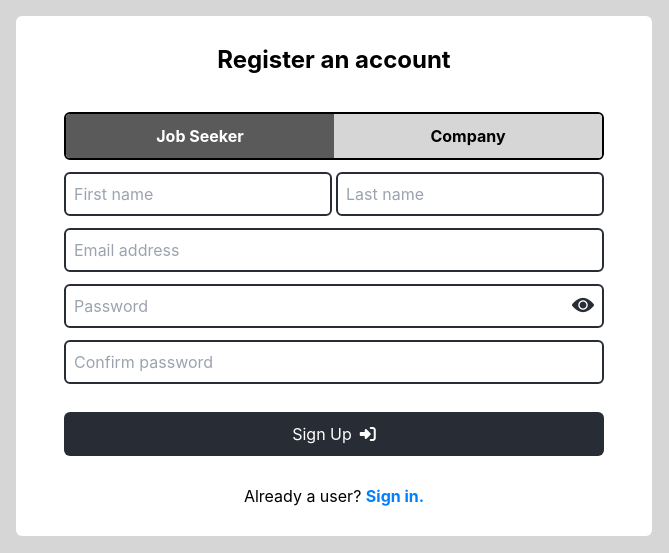
Test case: RegisterPage component › toggleRole function toggles visibility of Company-Fields and Seeker-Fields sections
Expected: the field with id "firstName" is shown, [64,172,332,216]
Expected: the field with id "lastName" is shown, [336,172,604,216]
Note: Toggle role to Company
Step 1. Click the button "Company" → click(468, 136), box [334,114,602,158]
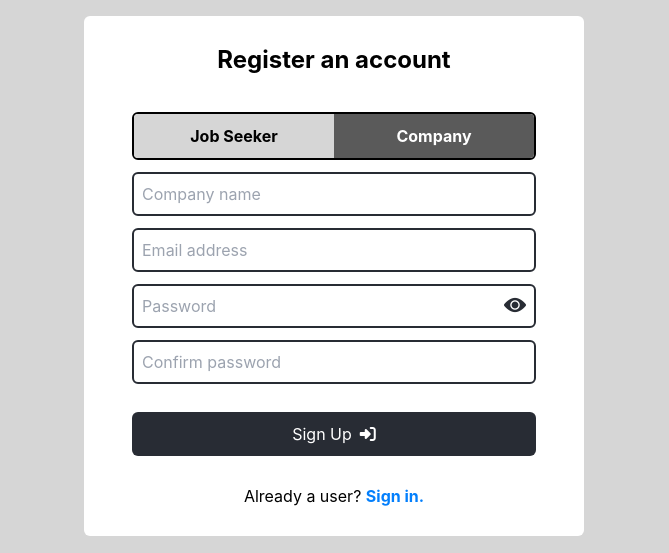
Expected: the field with id "firstName" is shown, [132,172,536,216]
Expected: the field with id "lastName" is gone
Note: Toggle role back to Job Seeker
Step 2. Click the button "Job Seeker" → click(234, 136), box [134,114,334,158]
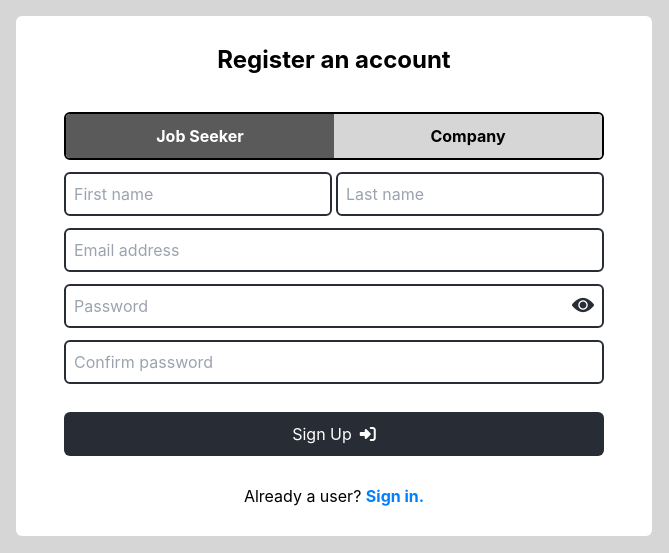
Expected: the field with id "firstName" is shown, [64,172,332,216]
Expected: the field with id "lastName" is shown, [336,172,604,216]
